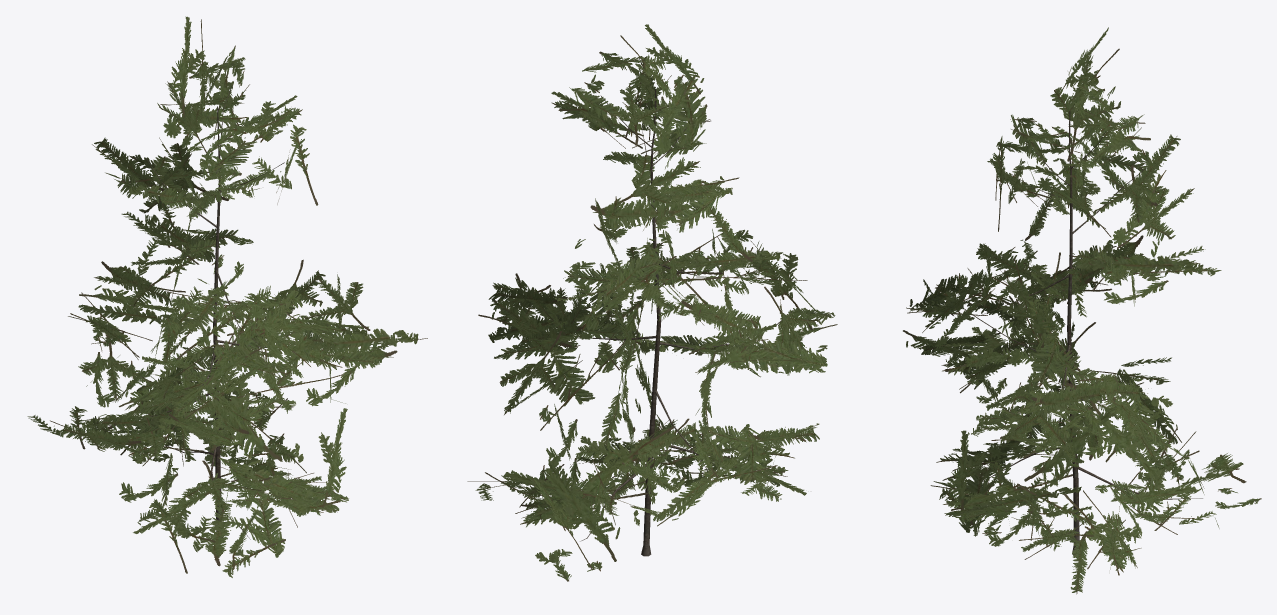
3 renders of one model, left to right at view 1: azimuth 30°, elevation 25°; view 2: azimuth 150°, elevation 25°; view 3: azimuth 270°, elevation 25°, orthographic. The views are drawn at different scales.
Parts seen in each view (by area): view 1: fir_sapling__a_lod1; view 2: fir_sapling__a_lod1; view 3: fir_sapling__a_lod1.
Boxes of the visible parts, left/top/right/bottom form: fir_sapling__a_lod1: left=27, top=16, right=427, bottom=577; fir_sapling__a_lod1: left=467, top=24, right=837, bottom=581; fir_sapling__a_lod1: left=903, top=27, right=1261, bottom=594.
Bounding box in the file's own units: 0.9308 × 1.33 × 0.8563.
Materials: 2 (2 with a texture image).
